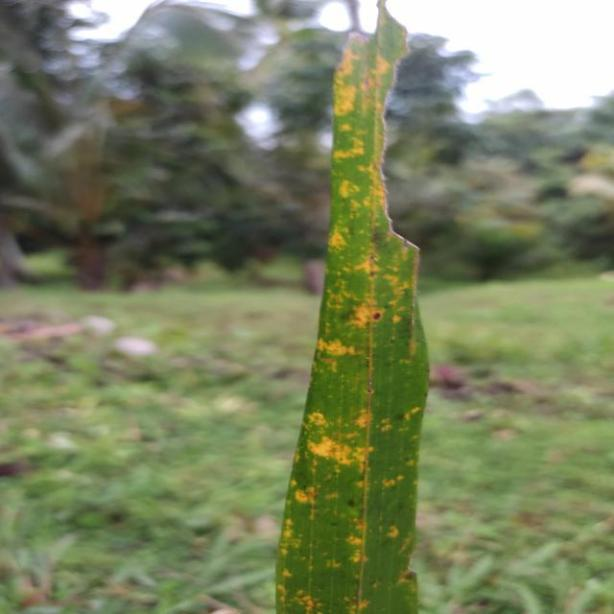Kalium: (283, 0, 435, 614)
